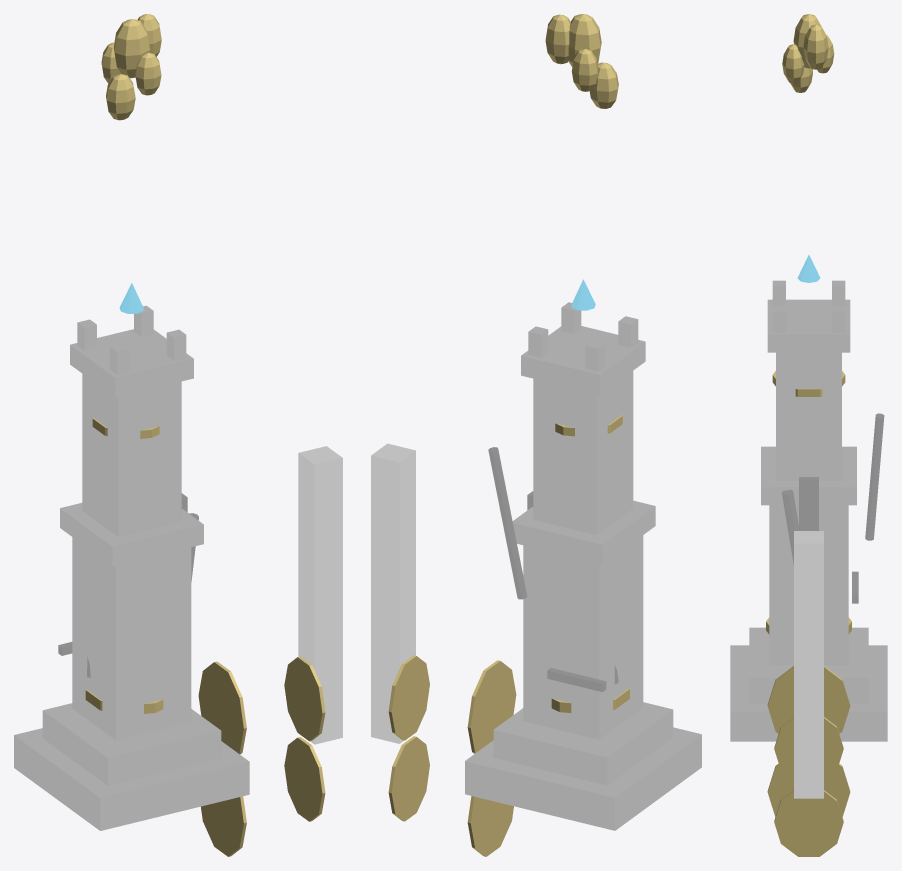
File: totem_warp_cuyabeno.glb
3 renders of one model, left to right at view 1: azimuth 30°, elevation 25°; view 2: azimuth 150°, elevation 25°; view 3: azimuth 270°, elevation 25°, orthographic. The views are drawn at different scales.
Parts seen in each view (by area): view 1: Totem_Warp_Cuyabeno_LOD0, Maya_Scale_Stub; view 2: Totem_Warp_Cuyabeno_LOD0, Maya_Scale_Stub; view 3: Totem_Warp_Cuyabeno_LOD0, Maya_Scale_Stub.
Boxes of the visible parts, x1,y1,x2,y2 form: Totem_Warp_Cuyabeno_LOD0: [14, 14, 325, 856]; Maya_Scale_Stub: [298, 446, 342, 744]; Totem_Warp_Cuyabeno_LOD0: [388, 14, 701, 856]; Maya_Scale_Stub: [371, 443, 415, 743]; Totem_Warp_Cuyabeno_LOD0: [730, 14, 887, 856]; Maya_Scale_Stub: [794, 531, 823, 798].
Size of what is drawn, in the model's own units: 1.77 by 5.19 by 0.95.
